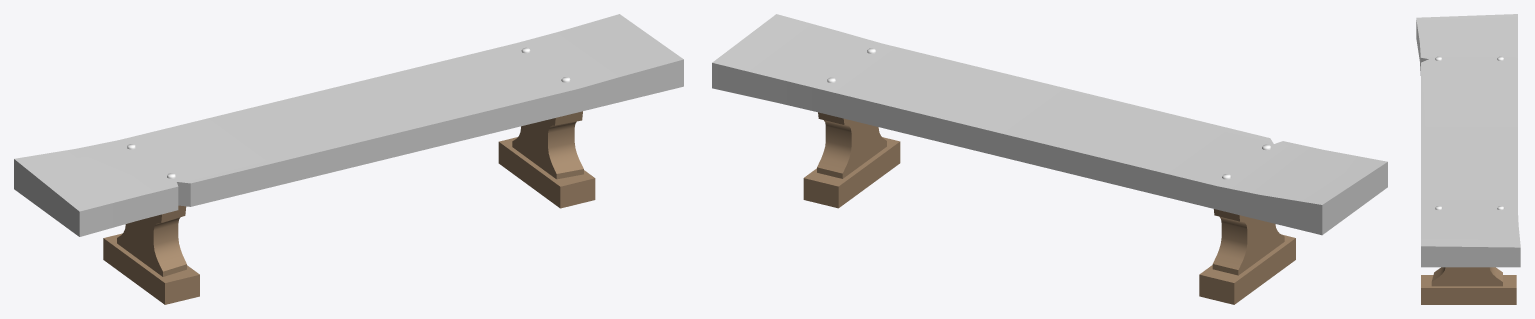
The model's file is eastbrook_bench.glb.
The picture shows the model from 3 angles, left to right: view 1: azimuth 30°, elevation 25°; view 2: azimuth 150°, elevation 25°; view 3: azimuth 270°, elevation 25°; orthographic projection. The views are drawn at different scales.
Parts seen in each view (by area): view 1: props/MI_Trim_Furniture; view 2: props/MI_Trim_Furniture; view 3: props/MI_Trim_Furniture, props/MI_Trim_Metal.
Part boxes in pixels (<box>): props/MI_Trim_Furniture: <box>14,14,683,304</box>; props/MI_Trim_Furniture: <box>712,14,1387,304</box>; props/MI_Trim_Furniture: <box>1416,14,1520,304</box>; props/MI_Trim_Metal: <box>1435,56,1504,210</box>.
Bounding box in the file's own units: 1.94 × 0.3732 × 0.3739.
